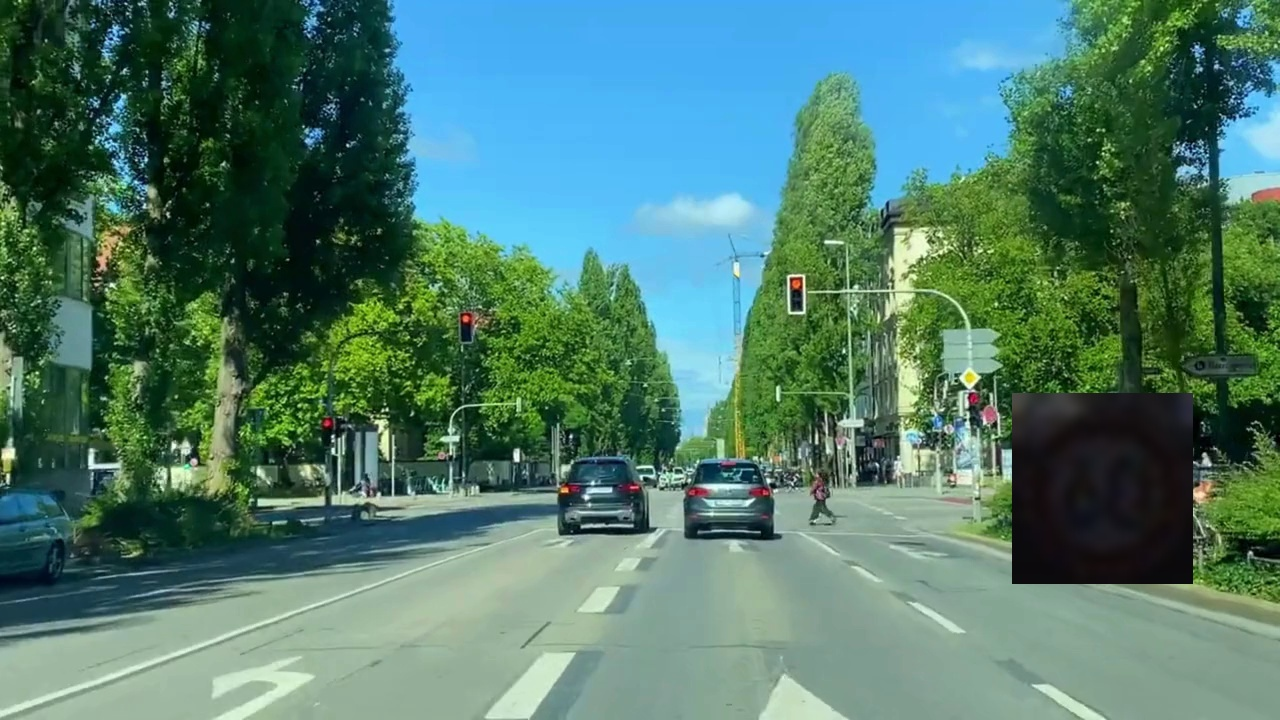Speed 60: (1012, 393, 1193, 584)
